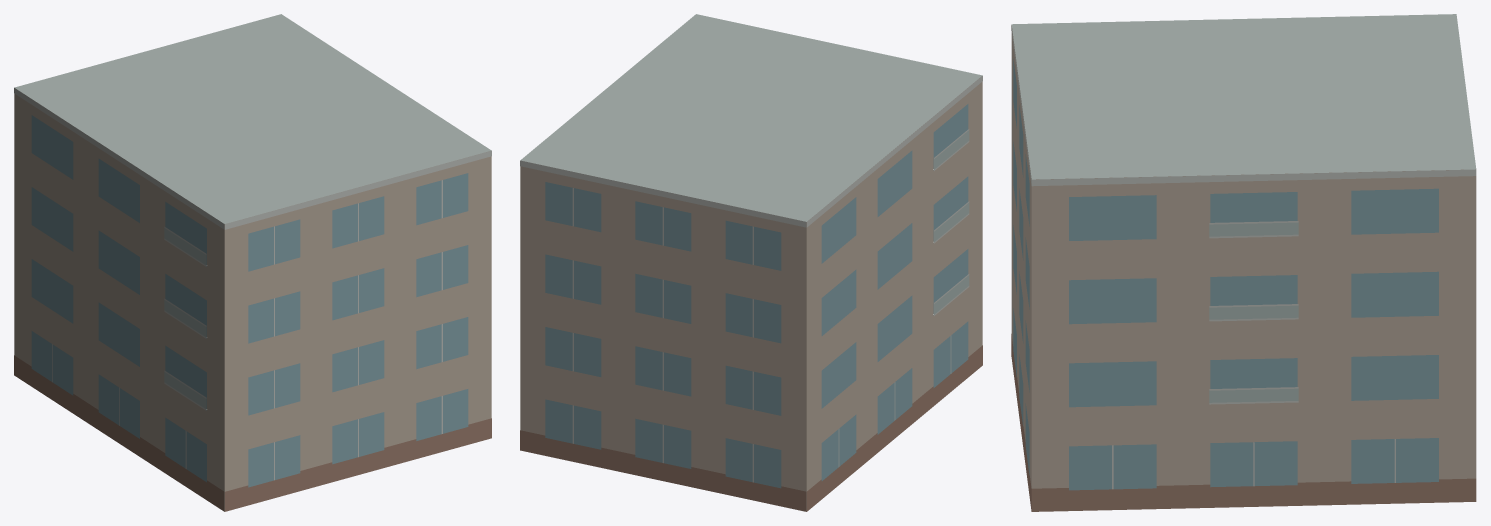
File: survey-upis-32782070.glb
The picture shows the model from 3 angles, left to right: view 1: azimuth 30°, elevation 25°; view 2: azimuth 150°, elevation 25°; view 3: azimuth 270°, elevation 25°; orthographic projection. The views are drawn at different scales.
Visible parts, largest first — view 1: survey-upis-32782070.tmp; view 2: survey-upis-32782070.tmp; view 3: survey-upis-32782070.tmp.
Part boxes in pixels (bbox=[...]): survey-upis-32782070.tmp: bbox=[14, 14, 491, 511]; survey-upis-32782070.tmp: bbox=[520, 14, 982, 511]; survey-upis-32782070.tmp: bbox=[1011, 14, 1476, 511].
Bounding box in the file's own units: 13.04 × 12.2 × 15.47.
